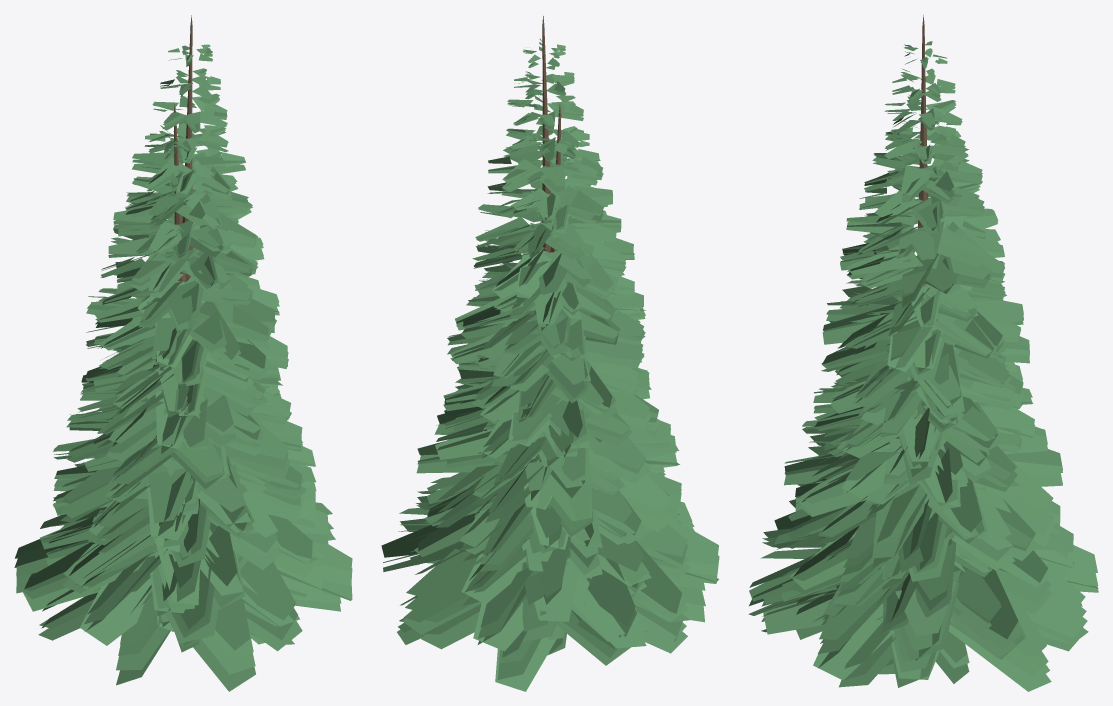
The model's file is firs.glb.
The picture shows the model from 3 angles, left to right: view 1: azimuth 30°, elevation 25°; view 2: azimuth 150°, elevation 25°; view 3: azimuth 270°, elevation 25°; orthographic projection. The views are drawn at different scales.
Visible parts, largest first — view 1: fir_b_needles, fir_a_needles, fir_a_trunk; view 2: fir_b_needles, fir_a_needles, fir_a_trunk; view 3: fir_b_needles, fir_a_needles, fir_c_needles, fir_a_trunk.
Part boxes in pixels (x1,y1,x2,y2): fir_b_needles: (14, 123, 352, 691); fir_a_needles: (45, 44, 323, 644); fir_a_trunk: (182, 15, 193, 281); fir_b_needles: (381, 126, 719, 691); fir_a_needles: (409, 38, 685, 641); fir_a_trunk: (542, 16, 551, 252); fir_b_needles: (748, 121, 1098, 691); fir_a_needles: (779, 41, 1067, 643); fir_c_needles: (817, 375, 987, 683); fir_a_trunk: (917, 15, 928, 284).
Bounding box in the file's own units: 0.5112 × 1.03 × 0.5124.
